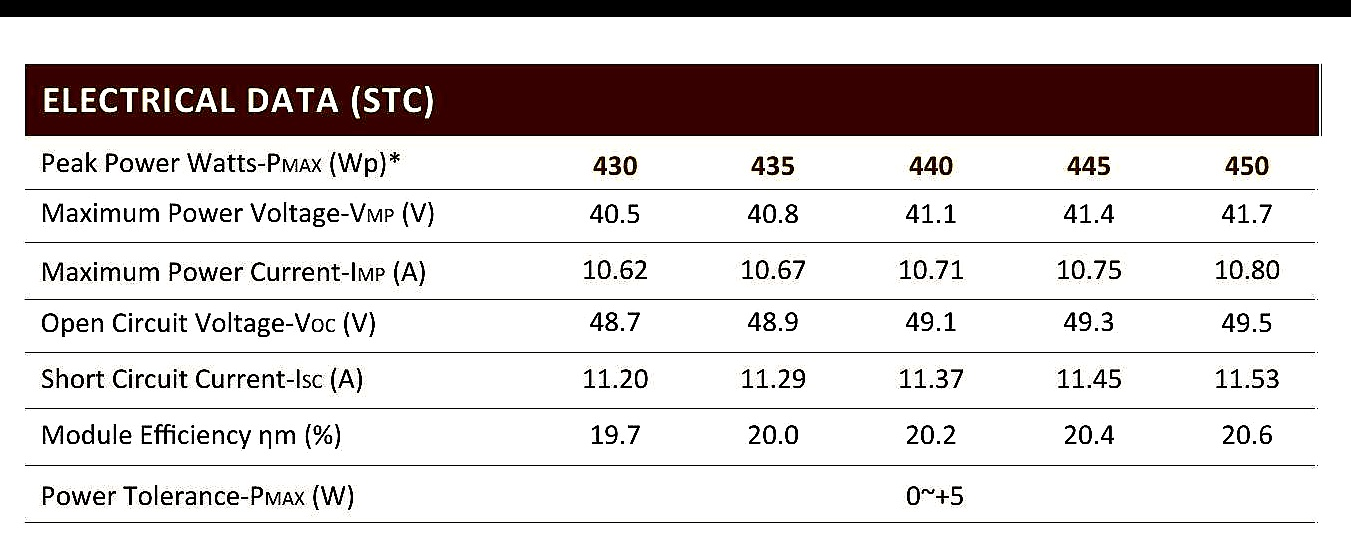table: (19, 60, 1328, 529)
table column: (31, 67, 519, 524), (852, 65, 1032, 525), (525, 69, 695, 520), (1036, 64, 1185, 524), (700, 69, 846, 525), (1190, 65, 1325, 522)
table name: (28, 67, 1317, 133)
table row: (20, 67, 1315, 132), (28, 411, 1323, 464), (26, 137, 1317, 190), (26, 355, 1321, 407), (29, 468, 1322, 520), (26, 247, 1317, 295), (27, 193, 1318, 240), (27, 303, 1318, 349)
table row header: (30, 70, 522, 525)
table spanning cell: (32, 67, 1317, 132), (524, 465, 1324, 516)
